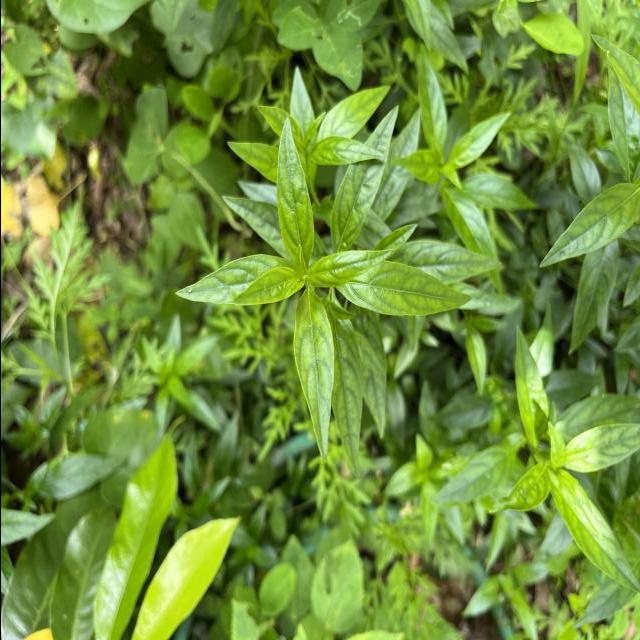Andrographis paniculata: (546, 469, 640, 594), (328, 105, 400, 254), (537, 182, 640, 269), (292, 286, 336, 465), (334, 260, 472, 316), (324, 298, 362, 489), (566, 238, 620, 355), (274, 115, 315, 262), (398, 240, 502, 286), (352, 307, 384, 443), (513, 324, 548, 446), (561, 421, 640, 474), (446, 111, 511, 170), (307, 246, 394, 290), (416, 44, 447, 154), (231, 264, 301, 306), (308, 134, 382, 168), (290, 341, 292, 344)
